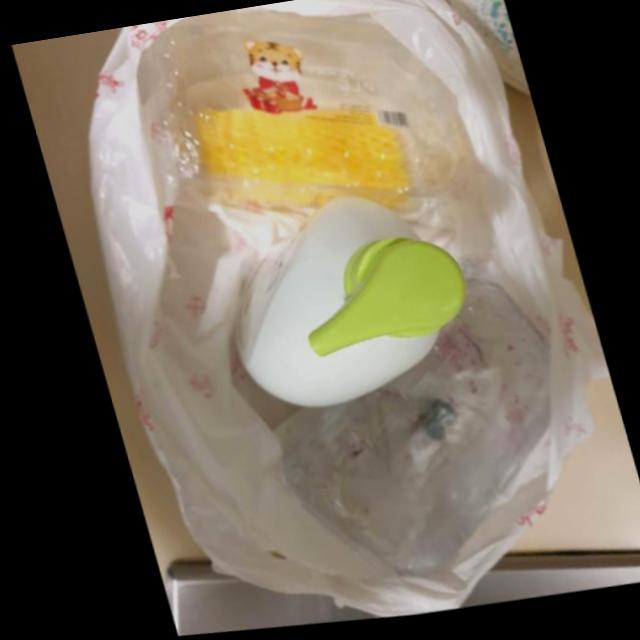hop_nhua: (266, 279, 545, 587), (149, 14, 468, 231), (235, 196, 463, 415)
